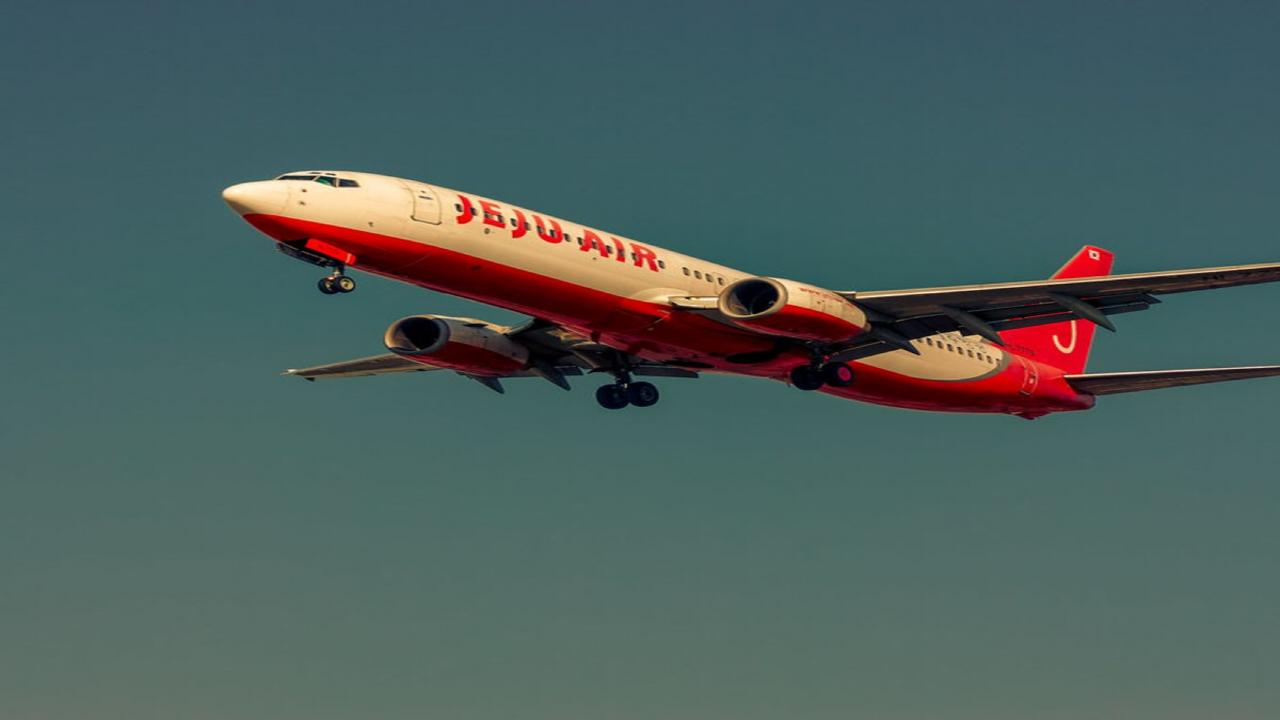Airplane: (193, 150, 1280, 437)
